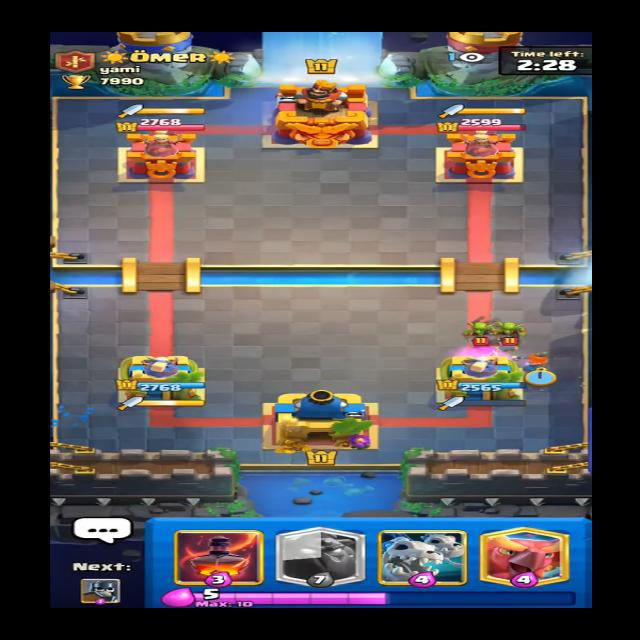Goblin: (456, 320, 498, 342), (492, 317, 528, 341)
